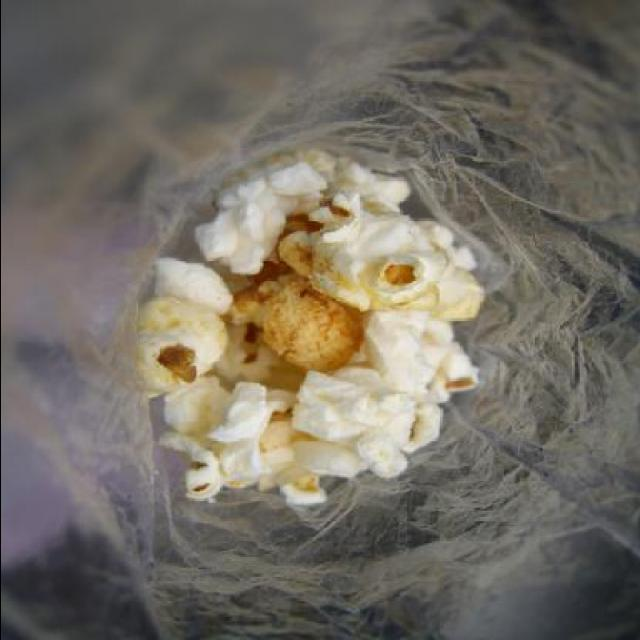Popcorn: (129, 142, 477, 502)
